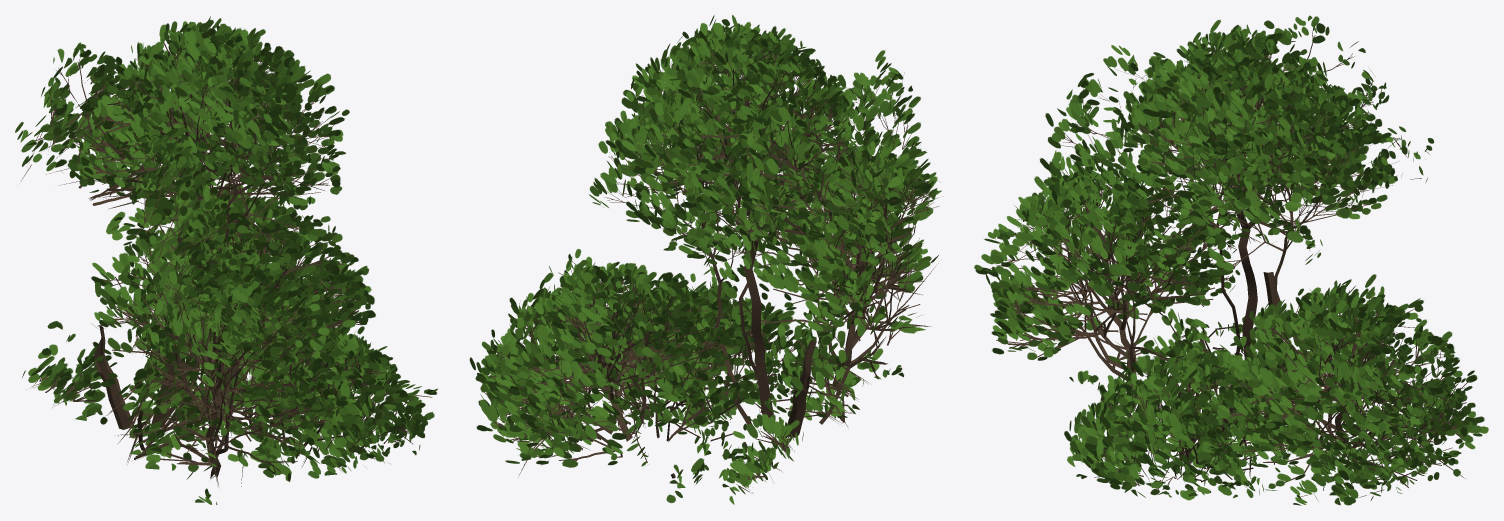
3 renders of one model, left to right at view 1: azimuth 30°, elevation 25°; view 2: azimuth 150°, elevation 25°; view 3: azimuth 270°, elevation 25°, orthographic. The views are drawn at different scales.
Visible parts, largest first — view 1: oak 01.001_trunk_Mat.001_0.395; view 2: oak 01.001_trunk_Mat.001_0.395; view 3: oak 01.001_trunk_Mat.001_0.395.
Boxes of the visible parts, x1,y1,x2,y2 form: oak 01.001_trunk_Mat.001_0.395: (15, 16, 437, 504); oak 01.001_trunk_Mat.001_0.395: (469, 15, 941, 504); oak 01.001_trunk_Mat.001_0.395: (974, 15, 1488, 505).
Bounding box in the file's own units: 2.96 × 3.58 × 4.17.
2 materials, 1 textured.
